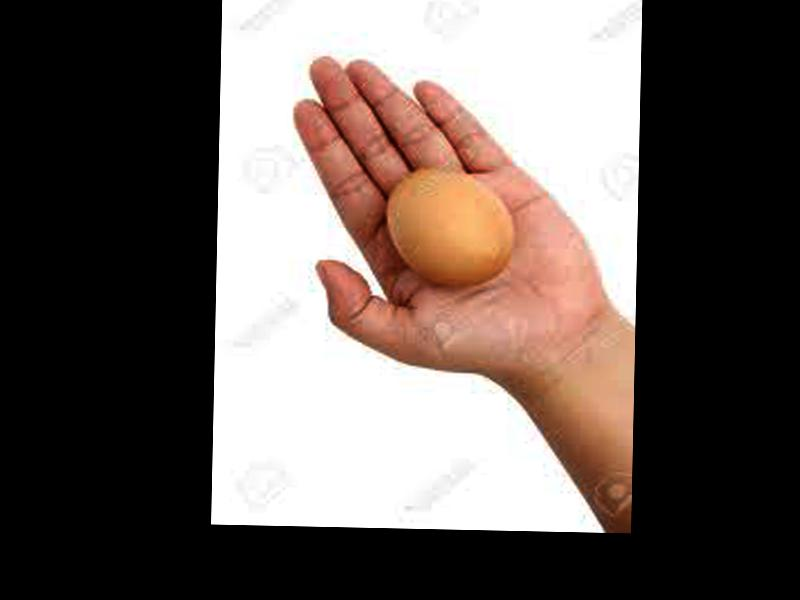Eggs: (386, 170, 515, 288)
